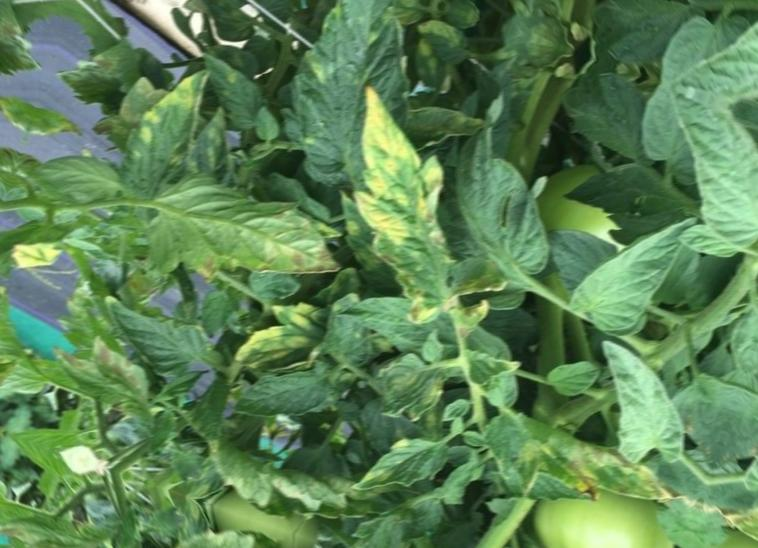Tomato mold leaf: (301, 84, 510, 317), (109, 145, 350, 333), (480, 406, 679, 535), (615, 84, 758, 256), (557, 183, 696, 353), (570, 331, 713, 474), (75, 282, 231, 398), (120, 58, 225, 217), (19, 135, 138, 226), (363, 333, 458, 430)
